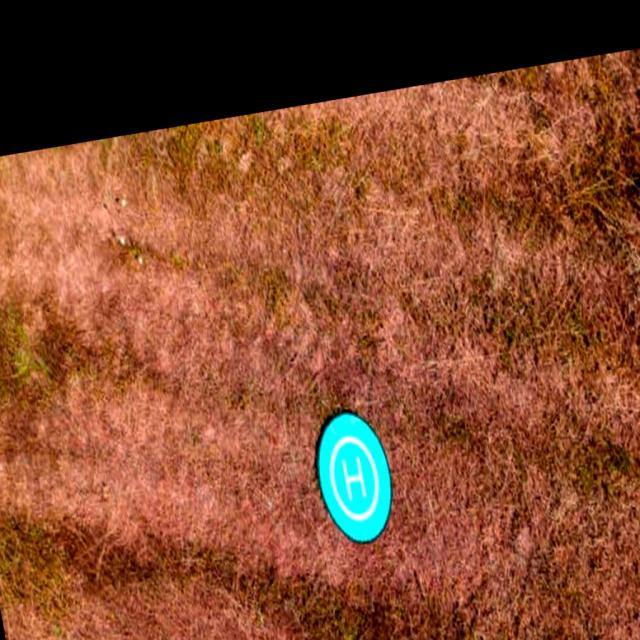helipad: (328, 434, 380, 520)
